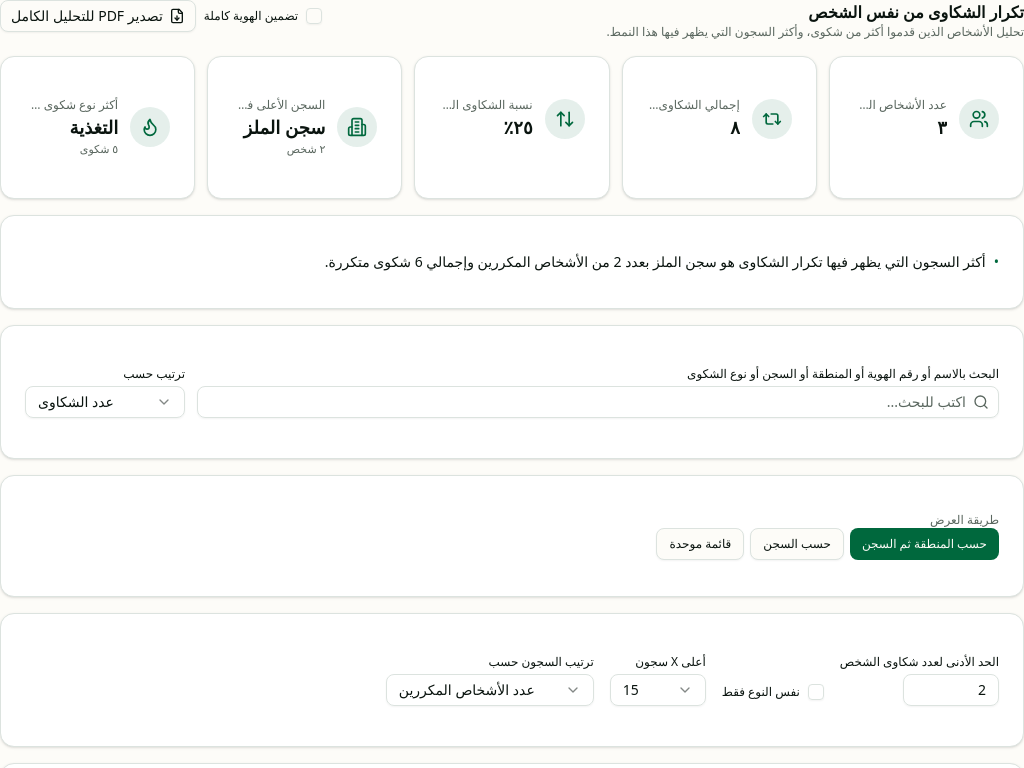
RepeatComplainantsPanel › searches org-wide via POST (never a GET query string) and shows results without the local facility scope
Type "محمد" into the field labelled "البحث بالاسم أو رقم الهوية أو المنطقة أو السجن أو نوع الشكوى" at x=598, y=402, box [197,386,999,418]
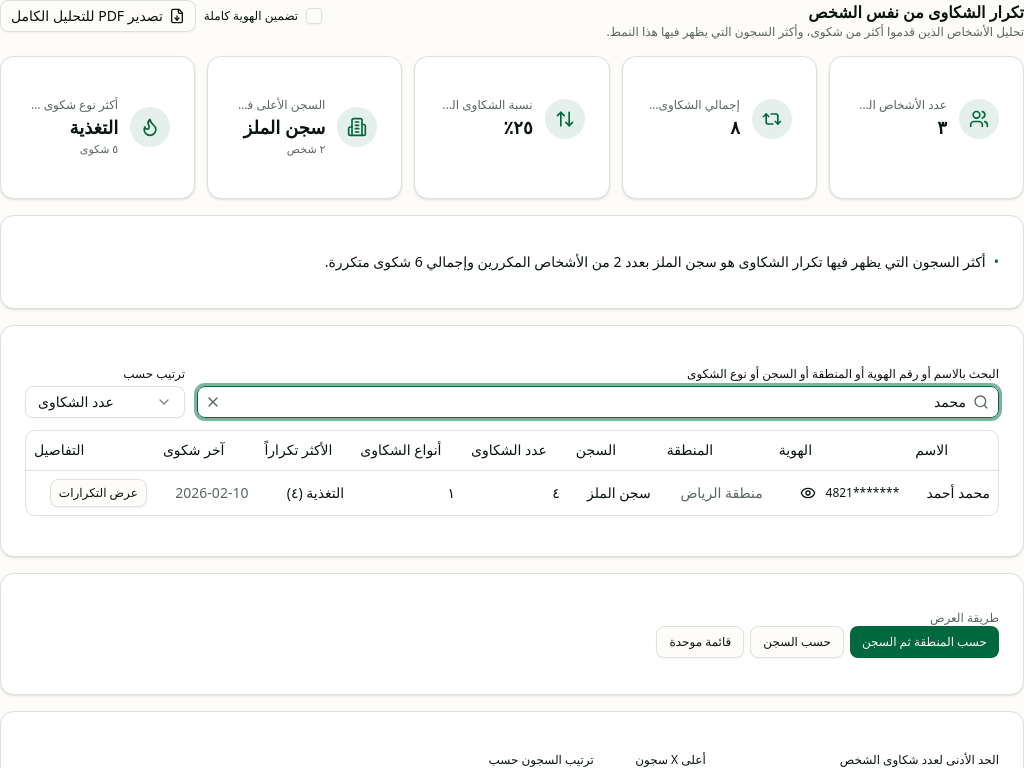
expect the text "محمد أحمد" is shown: met, box [907,470,998,515]
